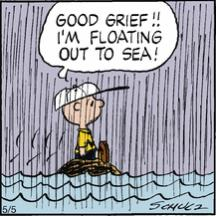charlie: (55, 81, 111, 163)
